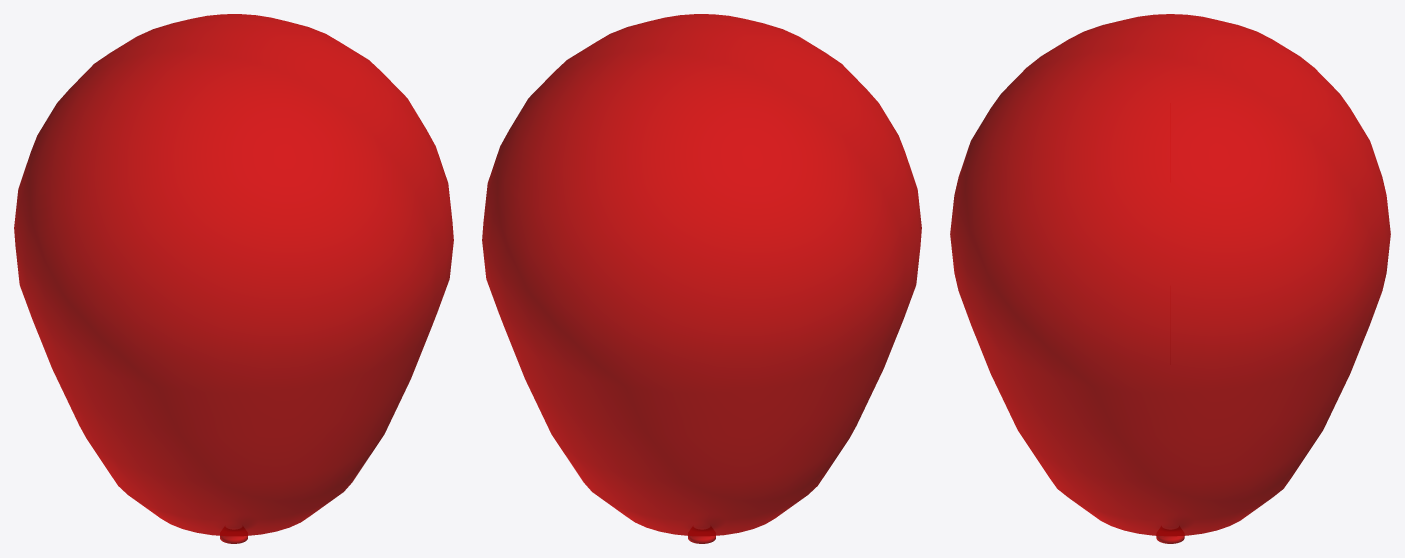
The model's file is balloon.fbx.
3 renders of one model, left to right at view 1: azimuth 30°, elevation 25°; view 2: azimuth 150°, elevation 25°; view 3: azimuth 270°, elevation 25°, orthographic.
Visible parts, largest first — view 1: Sphere; view 2: Sphere; view 3: Sphere.
Boxes of the visible parts, x1,y1,x2,y2 form: Sphere: [14, 14, 453, 543]; Sphere: [482, 14, 921, 543]; Sphere: [950, 14, 1390, 543].
Size of the model in its own units: 2 by 2.53 by 2.
